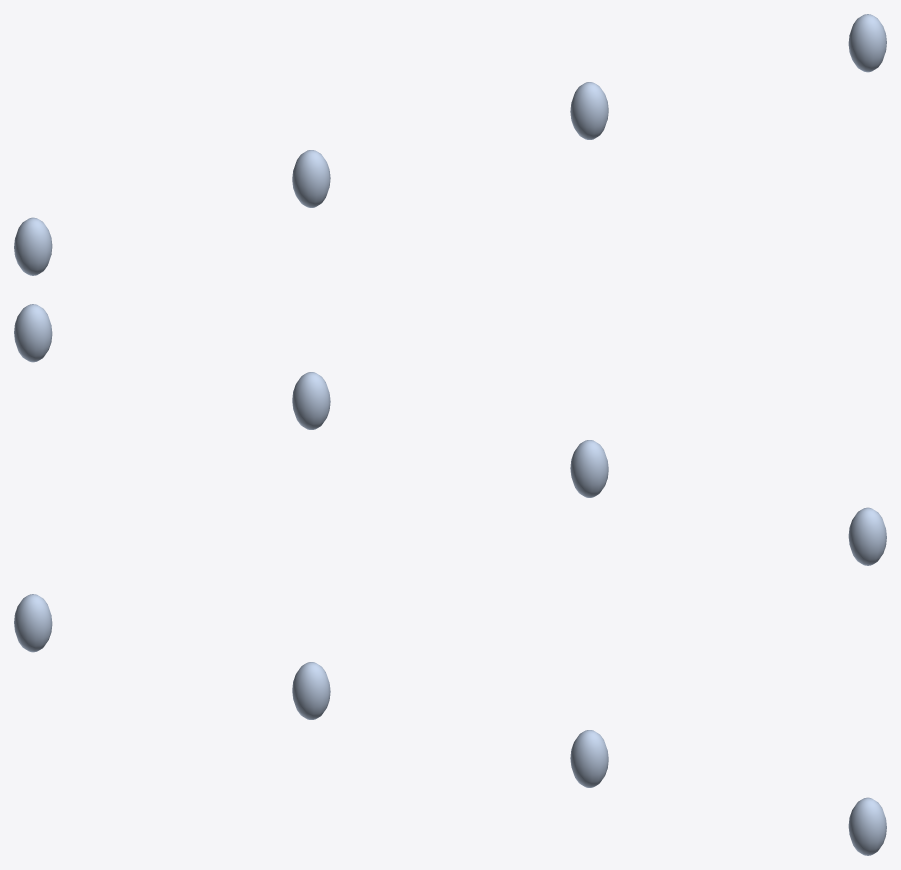
The model's file is building_sky_L01.glb.
The picture shows the model from 3 angles, top to bottom: view 1: azimuth 30°, elevation 25°; view 2: azimuth 150°, elevation 25°; view 3: azimuth 330°, elevation 25°; orthographic projection.
Size of what is drawn, in the model's own units: 9.36 by 0.576 by 0.351.
